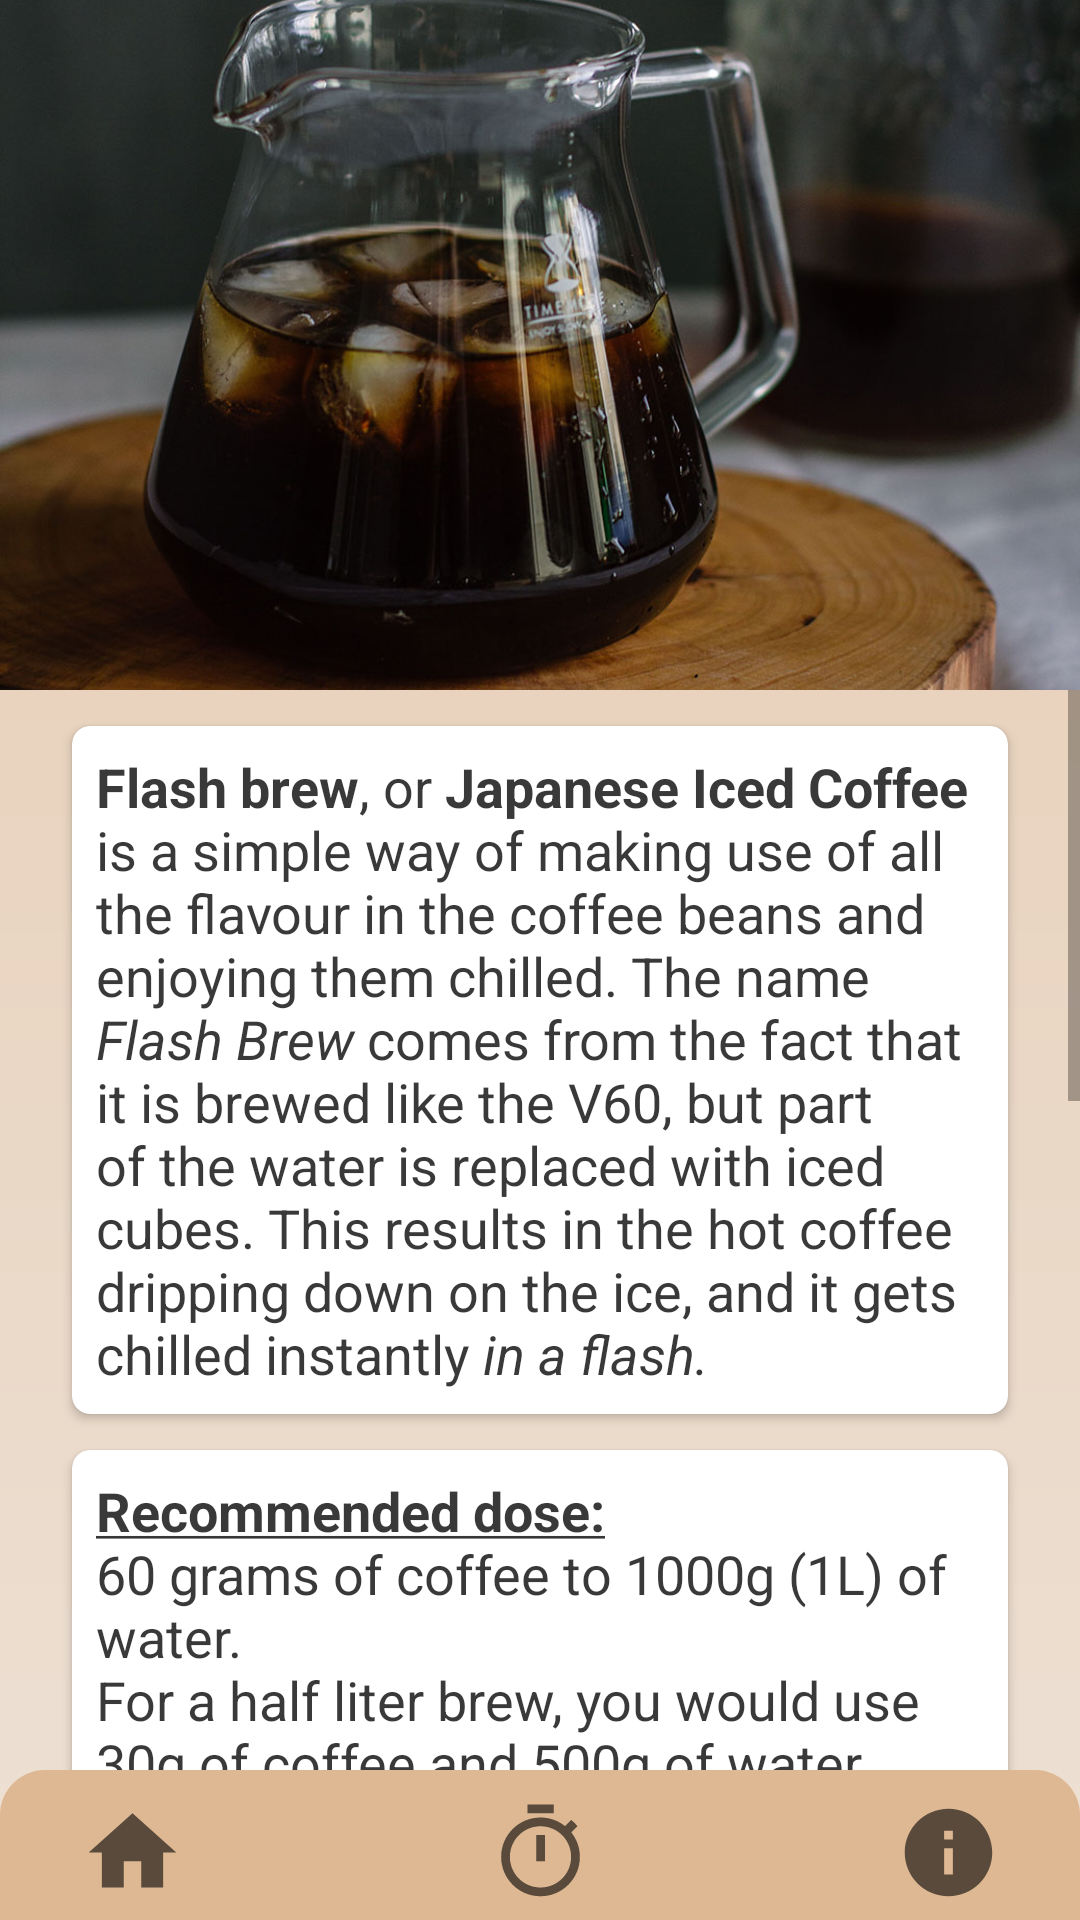

Named icons in this screenshot (1080 × 1920) and their centers, (x,y):
home: (132,1850)
info: (948,1852)
Stopwatch: (540,1850)
